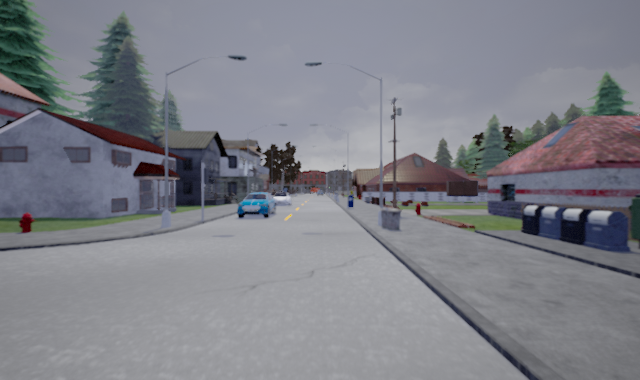vehicle: (234, 191, 278, 219), (269, 191, 291, 206)
